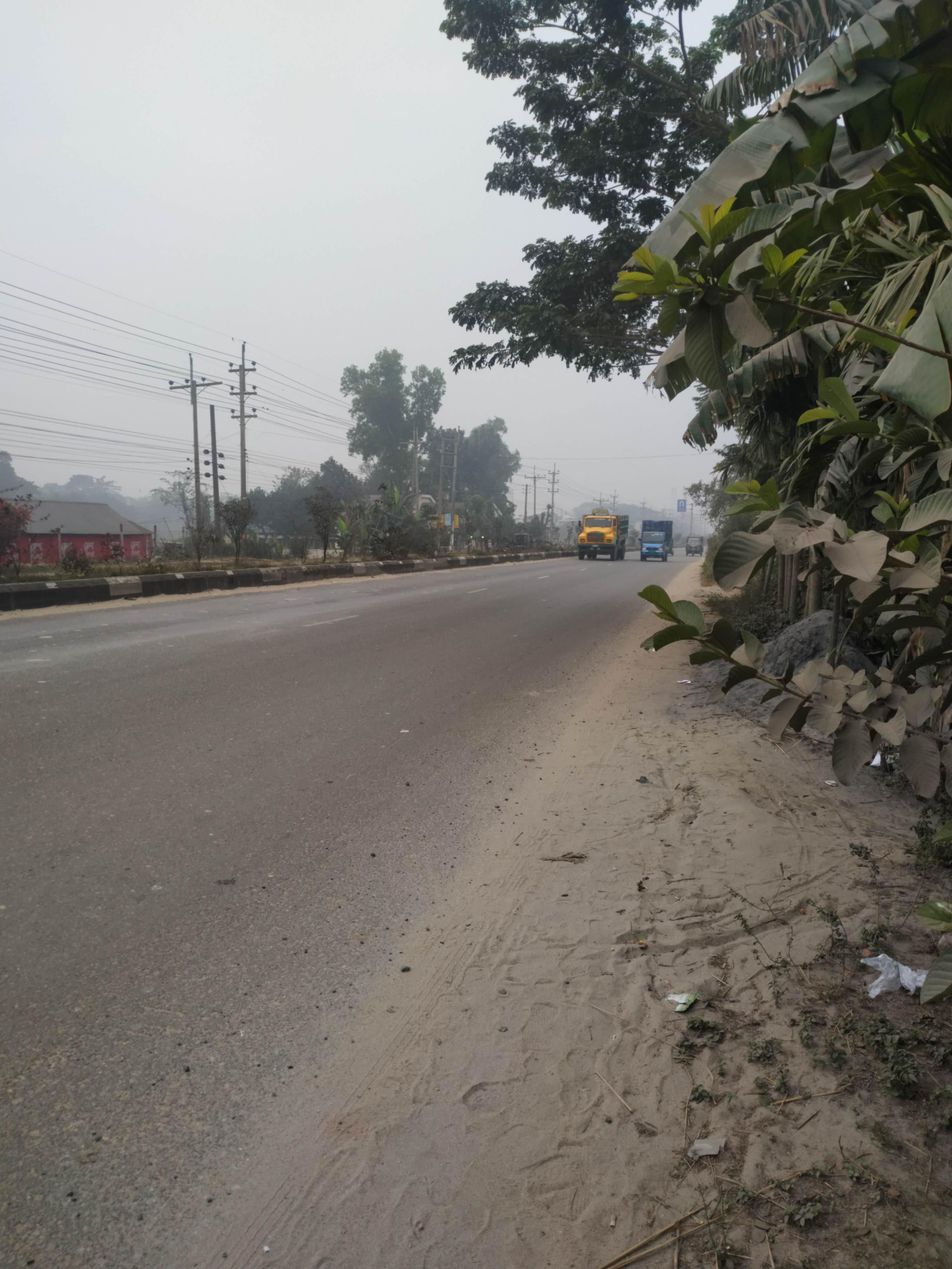Truck: (560, 508, 632, 572), (636, 506, 678, 577)
